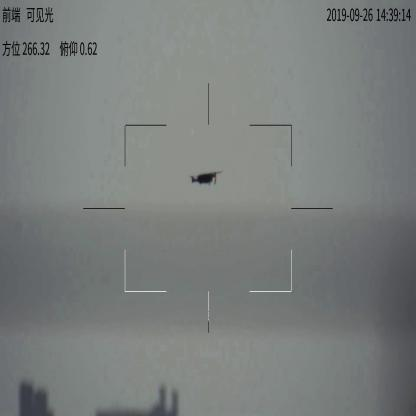uav: (185, 169, 225, 188)
